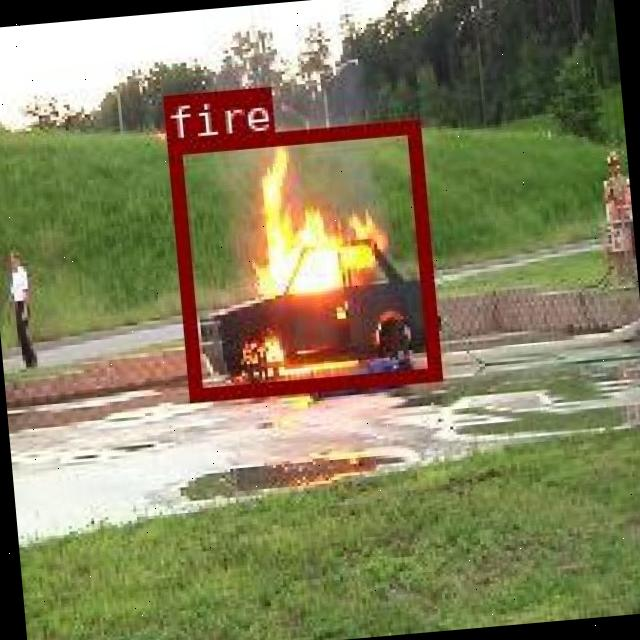fire: (166, 120, 440, 399)
